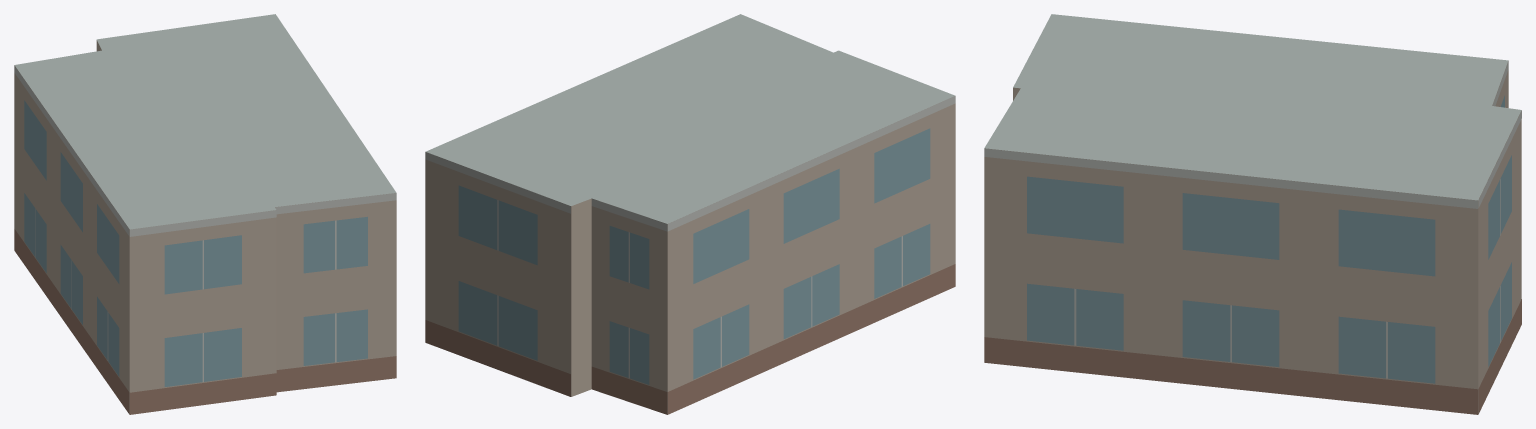
Rendered from survey-upis-32500782.glb.
3 views of the same model, side by side, from view 1: azimuth 30°, elevation 25°; view 2: azimuth 150°, elevation 25°; view 3: azimuth 270°, elevation 25° (orthographic). The views are drawn at different scales.
Parts seen in each view (by area): view 1: survey-upis-32500782.tmp; view 2: survey-upis-32500782.tmp; view 3: survey-upis-32500782.tmp.
Boxes of the visible parts, box(x1,y1,x2,y2) form: survey-upis-32500782.tmp: box(14, 14, 396, 414); survey-upis-32500782.tmp: box(425, 14, 955, 414); survey-upis-32500782.tmp: box(984, 14, 1521, 414).
Size of the model in its own units: 11.39 by 6.1 by 13.87.
